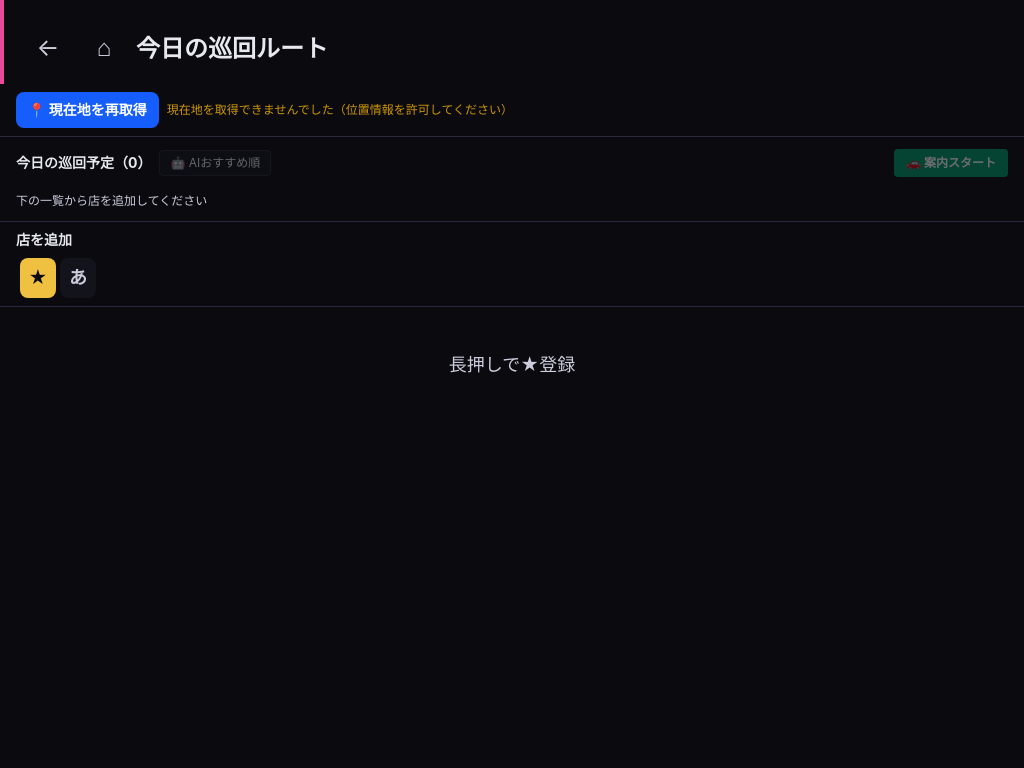
Test: D-107 AC3/AC4: KanaIndex + StoreCard 店選択、距離併存 › 追加した店は候補(カナ一覧)から除外される
The width and height of the screenshot is (1024, 768).
Click the button "あ" at point(78, 278), box 60,258 -> 96,298
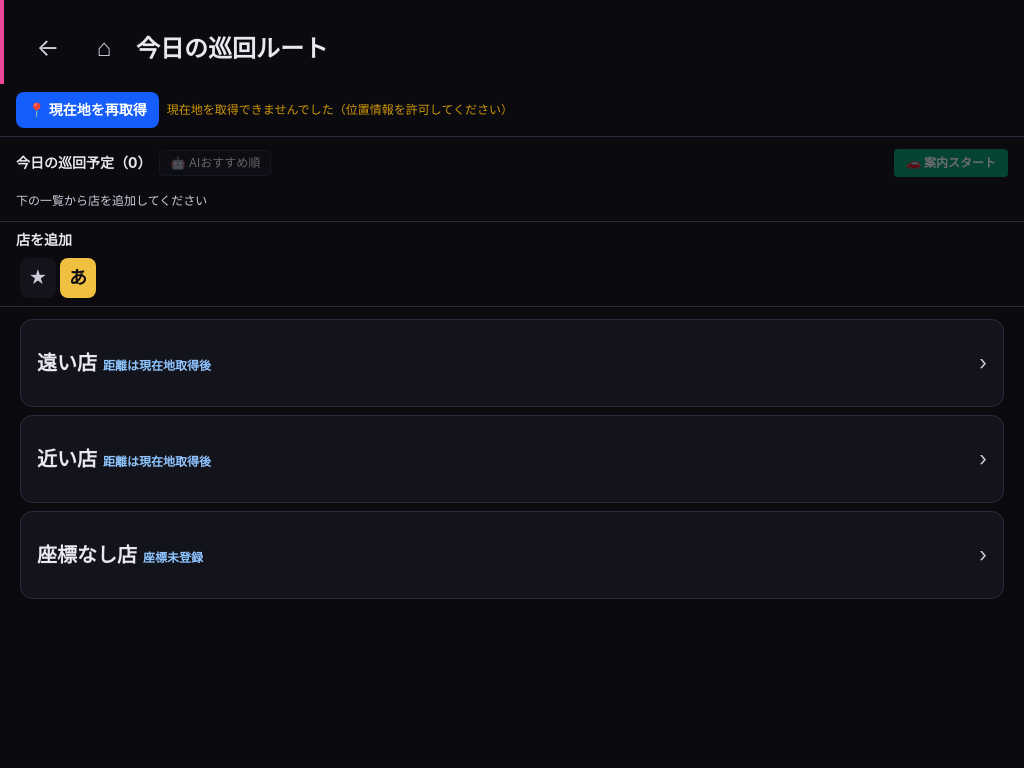
Expected: the button with test id "store-card-NEAR" is shown
Click the button with test id "store-card-NEAR" at point(67, 459), box 20,415 -> 1004,503
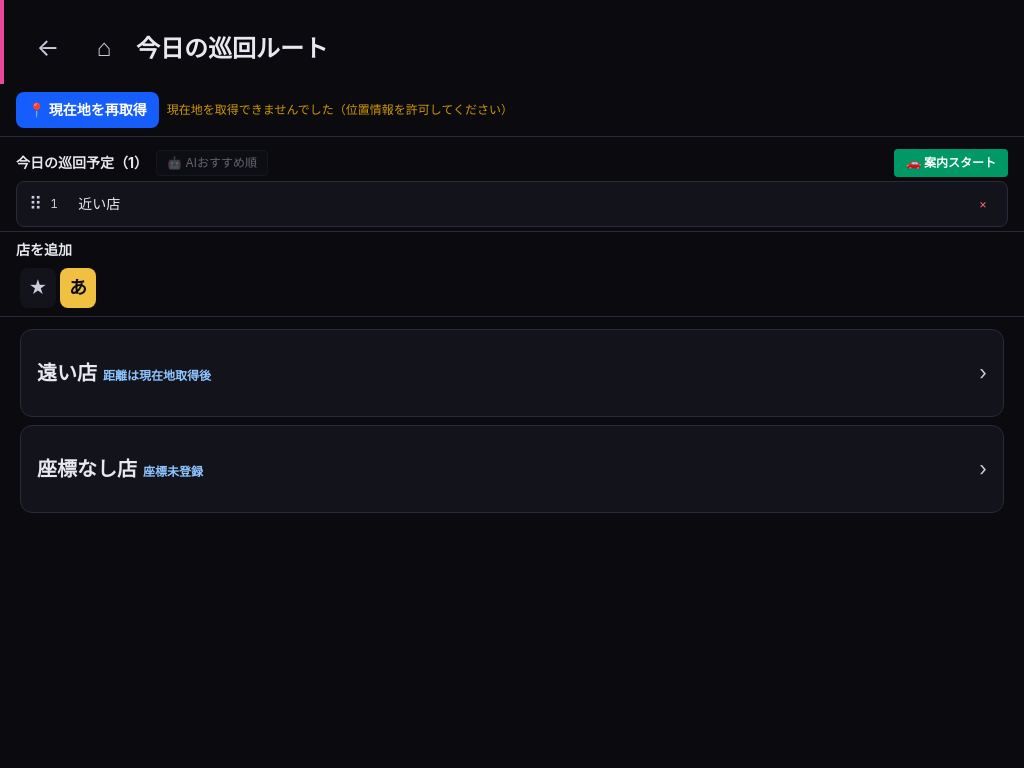
Expected: the element with test id "route-item-NEAR" is shown, 16,181 -> 1008,227
Expected: the button with test id "store-card-NEAR" is gone
